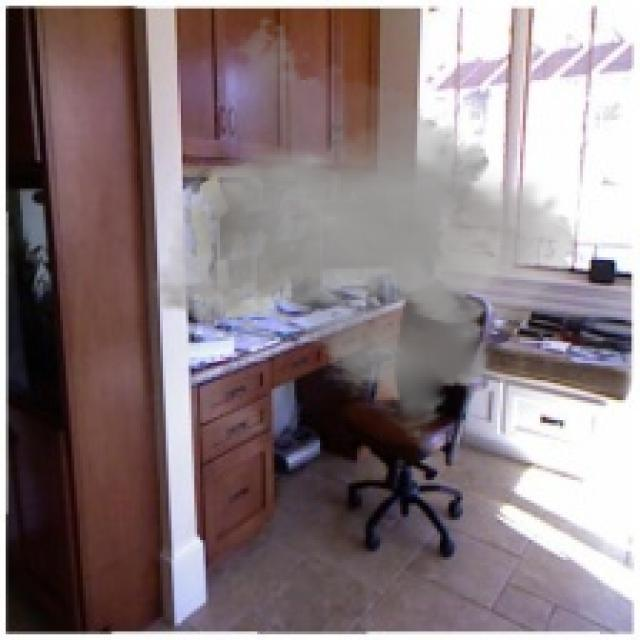Smoke: (152, 14, 577, 440)
